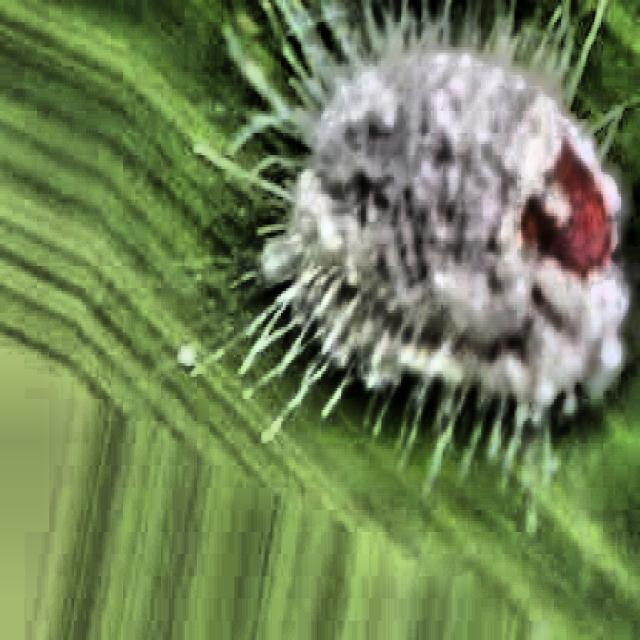Mealy-bug: (190, 0, 640, 444)
